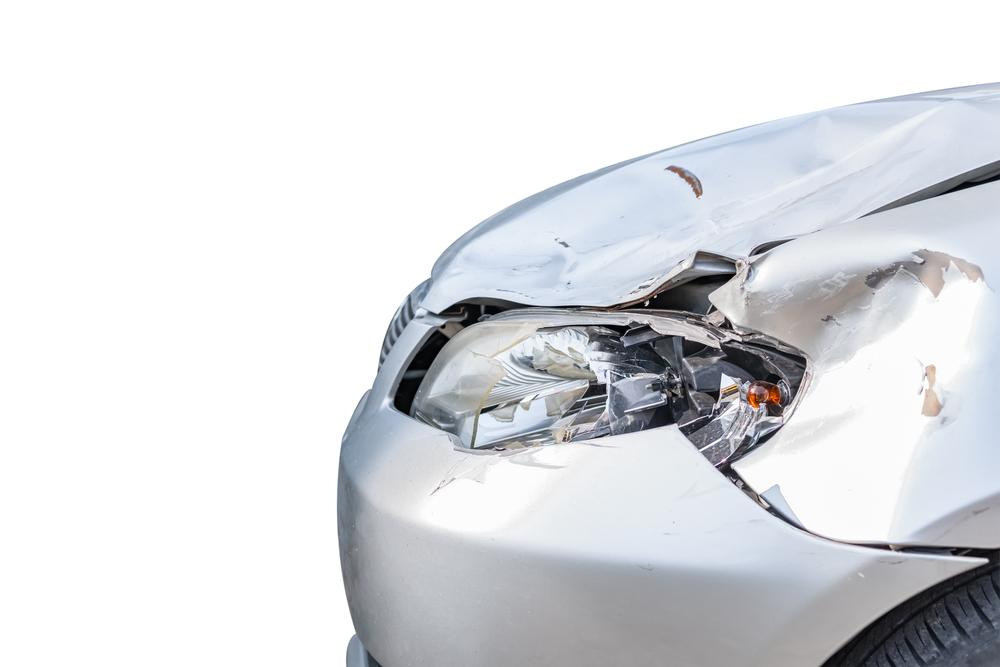dent: (440, 115, 956, 306), (739, 253, 978, 539)
lamp broken: (405, 299, 807, 466)
